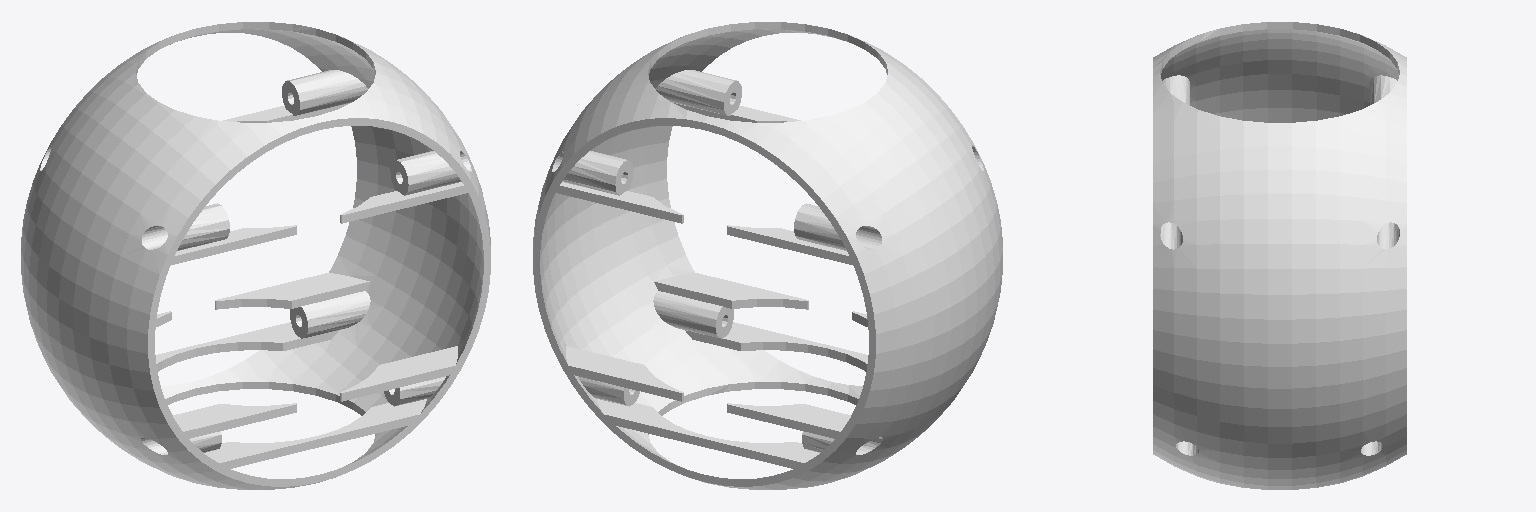
File: right_arm_link6.obj
3 views of the same model, side by side, from view 1: azimuth 30°, elevation 25°; view 2: azimuth 150°, elevation 25°; view 3: azimuth 270°, elevation 25° (orthographic).
Visible parts, largest first — view 1: Right_Arm_Link6; view 2: Right_Arm_Link6; view 3: Right_Arm_Link6.
Boxes of the visible parts, x1=… form: Right_Arm_Link6: x1=21, y1=22, x2=490, y2=489; Right_Arm_Link6: x1=533, y1=22, x2=1002, y2=489; Right_Arm_Link6: x1=1153, y1=22, x2=1406, y2=489.
Size of the model in its own units: 0.1017 by 0.0878 by 0.055.